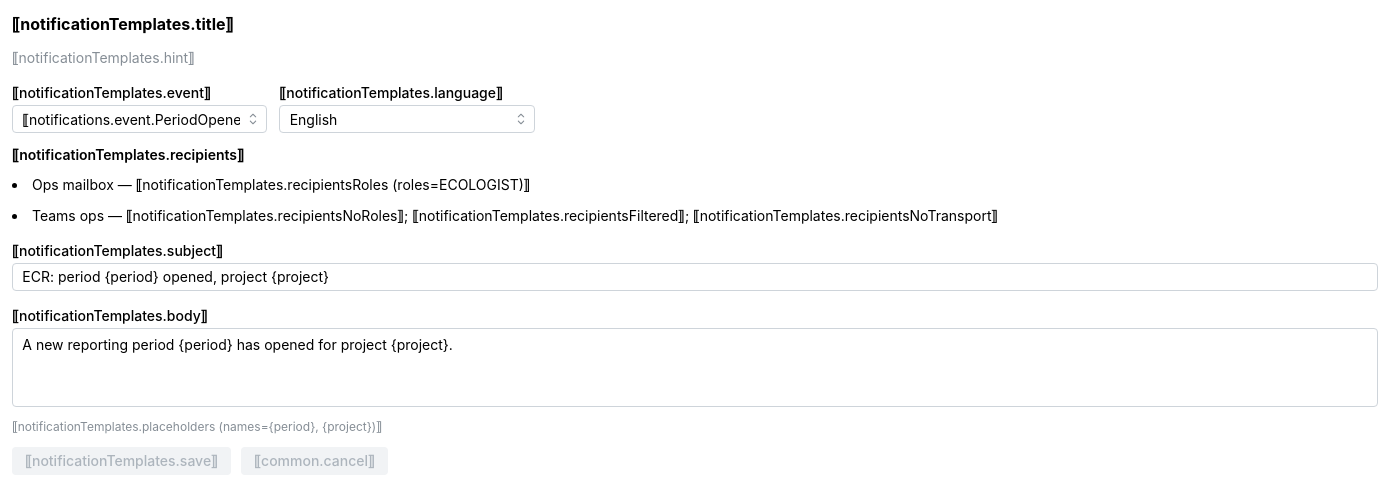
Test case: NotificationTemplatesPanel: хто отримає › подія без жодного увімкненого правила — «ніхто не отримає», а не порожній перелік
The image size is (1390, 492).
Expected: the text "Ops mailbox" is shown, [32, 176, 114, 193]
Click the field labelled "⟦notificationTemplates.event⟧" at (140,119), box [12, 105, 267, 133]
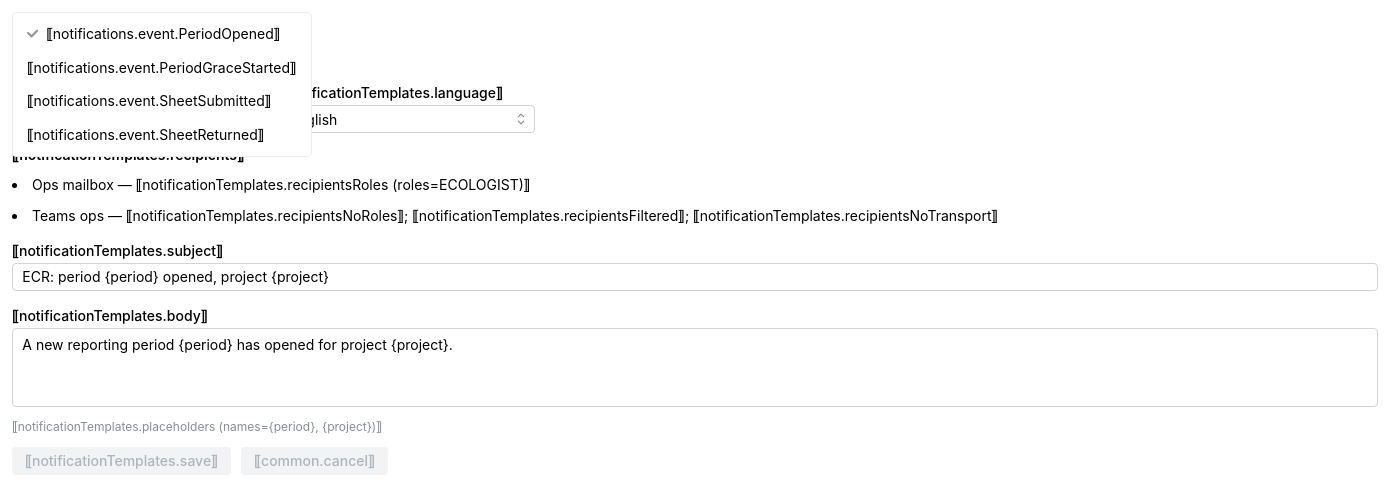
Click the option "⟦notifications.event.PeriodGraceStarted⟧" at (162,67), box [27, 59, 297, 76]
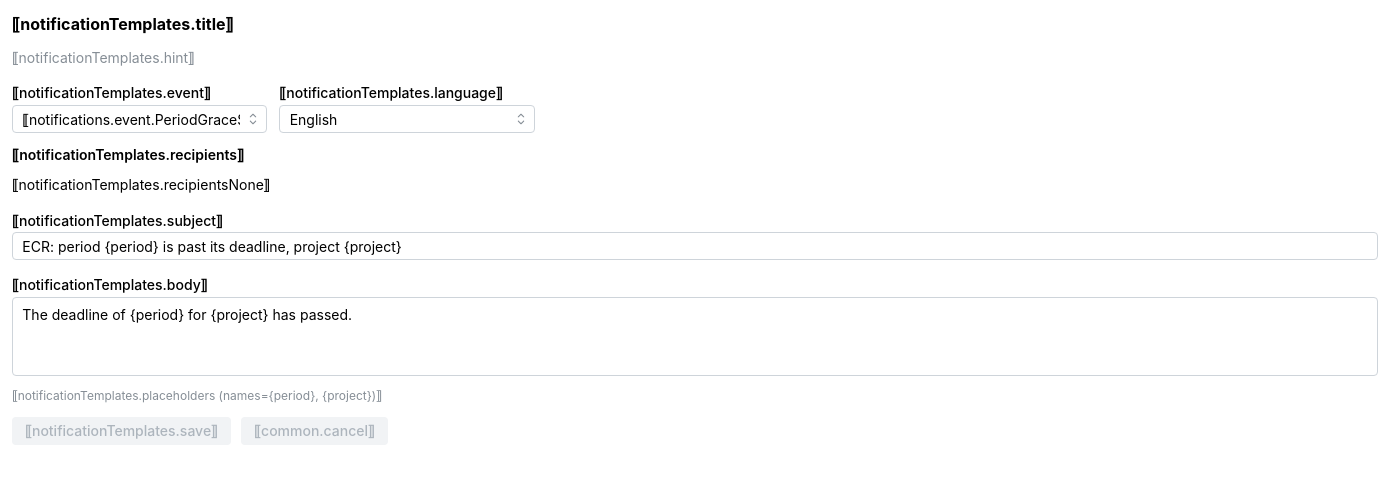
Result: the text "⟦notificationTemplates.recipientsNone⟧" is shown at [12, 176, 270, 193]
Result: the text "Ops mailbox" is gone
